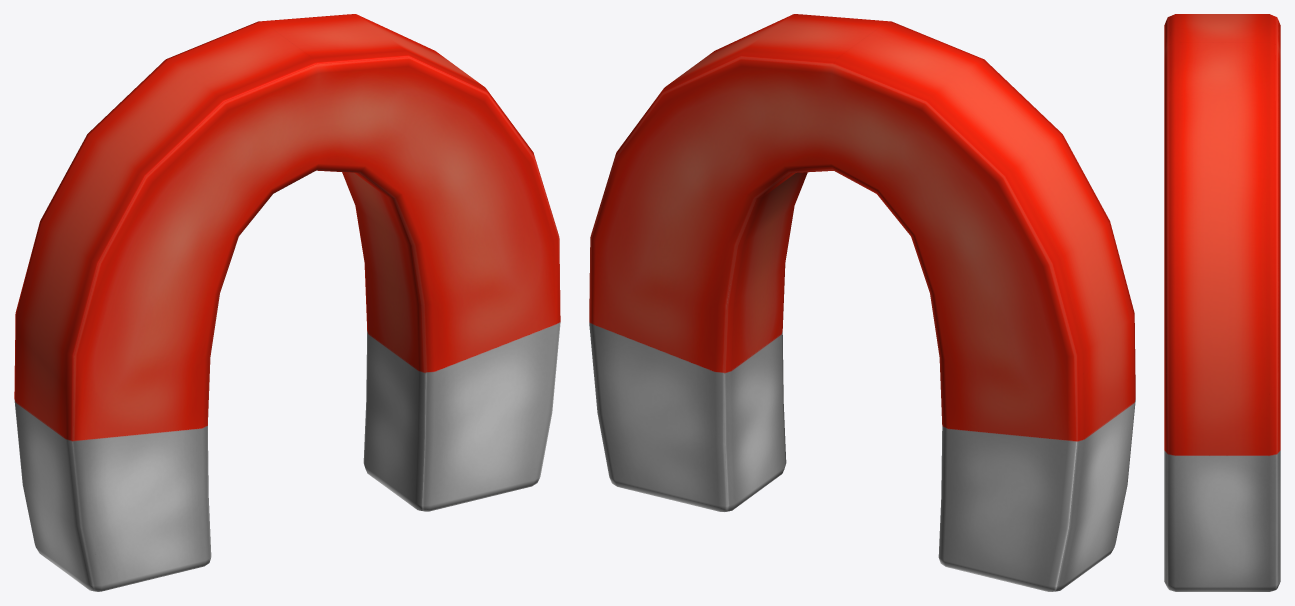
File: Magnet.fbx
3 renders of one model, left to right at view 1: azimuth 30°, elevation 25°; view 2: azimuth 150°, elevation 25°; view 3: azimuth 270°, elevation 25°, orthographic. The views are drawn at different scales.
Parts seen in each view (by area): view 1: Magnet; view 2: Magnet; view 3: Magnet.
Part boxes in pixels (left/top/right/bottom): Magnet: left=14, top=14, right=560, bottom=591; Magnet: left=589, top=14, right=1135, bottom=591; Magnet: left=1164, top=14, right=1280, bottom=591.
Size of the model in its own units: 0.1437 by 0.1338 by 0.0313.
